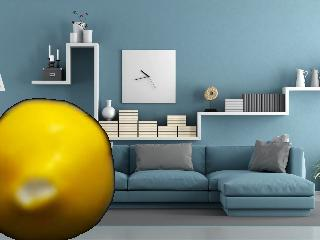lemon: (0, 98, 113, 237)
